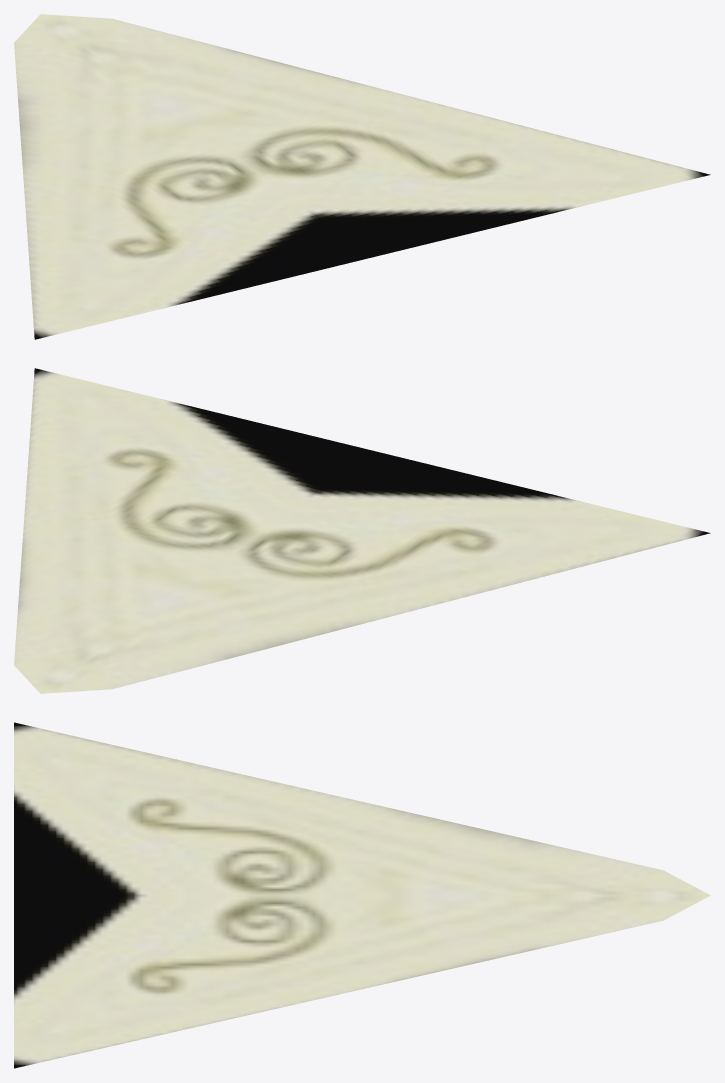
The model's file is arrow_ground.fbx.
3 views of the same model, one above another, from view 1: azimuth 30°, elevation 25°; view 2: azimuth 150°, elevation 25°; view 3: azimuth 270°, elevation 25° (orthographic). The views are drawn at different scales.
Visible parts, largest first — view 1: arrow_ground; view 2: arrow_ground; view 3: arrow_ground.
Part boxes in pixels (x1=…): arrow_ground: x1=14, y1=14, x2=710, y2=339; arrow_ground: x1=14, y1=368, x2=710, y2=693; arrow_ground: x1=14, y1=722, x2=710, y2=1068.
Bounding box in the file's own units: 248 × 3.44e-05 × 211.
1 material, 1 textured.
